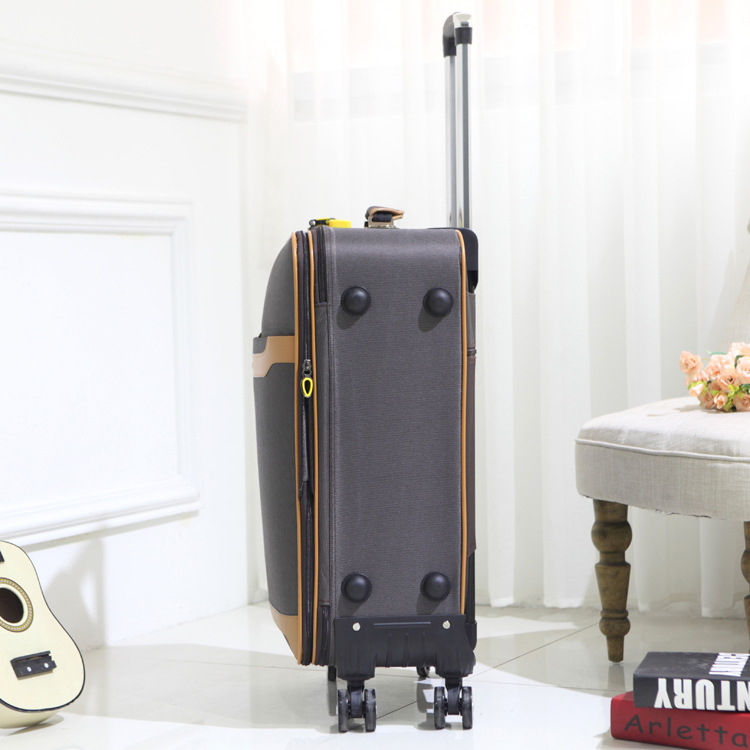suitcase: (248, 11, 481, 735)
